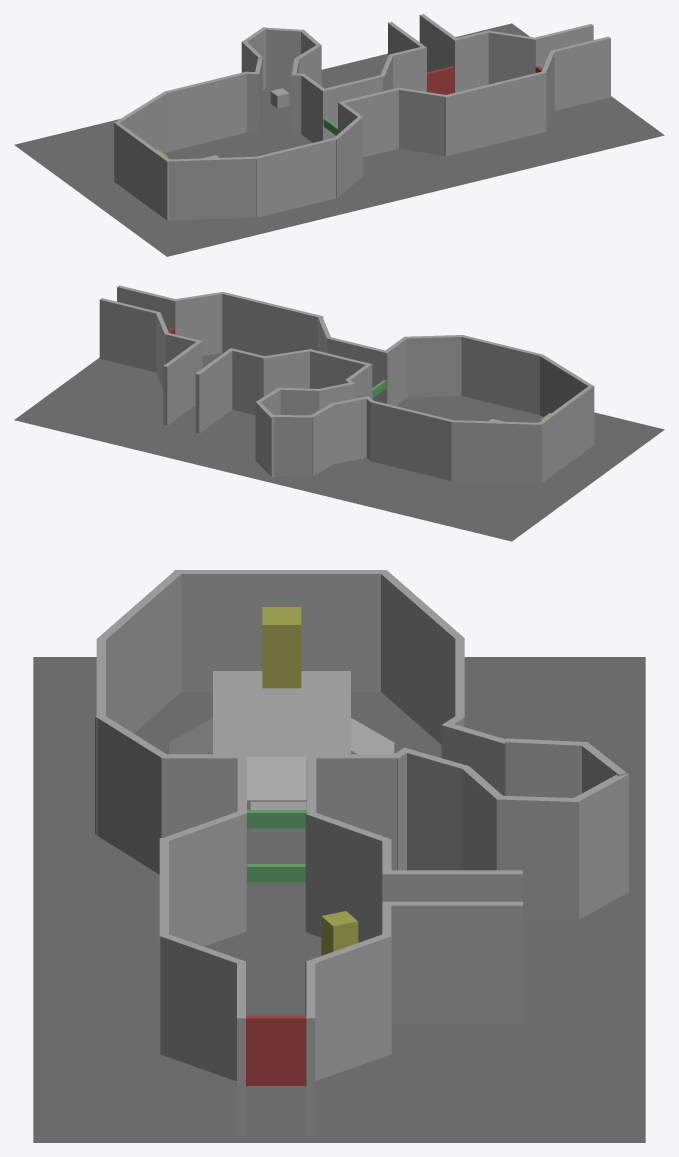
Rendered from BASE_BLOCKOUT.fbx.
3 views of the same model, one above another, from view 1: azimuth 30°, elevation 25°; view 2: azimuth 150°, elevation 25°; view 3: azimuth 270°, elevation 25° (orthographic). The views are drawn at different scales.
Visible parts, largest first — view 1: Floor, Wall_Upgrade_Room3, Wall_Teleport_Room2, Wall_Teleport_Room3, Wall_Teleport_Room7, Wall_Hallway_3_2, Wall_Teleport_Room1, Wall_Upgrade_Room2, Wall_Hallway_1_2, Wall_Upgrade_Room6, Wall_Upgrade_Room7, Wall_Mother4 (+16 smaller); view 2: Floor, Wall_Teleport_Room6, Wall_Teleport_Room7, Wall_Teleport_Room3, Wall_Upgrade_Room3, Wall_Hallway_3_1, Wall_Teleport_Room1, Wall_Teleport_Room4, Wall_Mother3, Wall_Upgrade_Room4, Wall_Hallway_4_2, Wall_Hallway_4_1 (+16 smaller); view 3: Floor, Wall_Teleport_Room1, Wall_Hallway_4_1, Platform, Wall_Upgrade_Room6, Wall_Upgrade_Room4, Wall_Upgrade_Room2, Wall_Teleport_Room6, Wall_Teleport_Room2, Wall_Mother5, Wall_Teleport_Room4, Wall_Upgrade_Room1 (+22 smaller).
Part boxes in pixels (left/top/right/bottom): Floor: left=14, top=23, right=664, bottom=256; Wall_Upgrade_Room3: left=443, top=71, right=546, bottom=156; Wall_Teleport_Room2: left=169, top=156, right=256, bottom=220; Wall_Teleport_Room3: left=256, top=137, right=337, bottom=217; Wall_Teleport_Room7: left=165, top=71, right=247, bottom=151; Wall_Hallway_3_2: left=550, top=36, right=610, bottom=110; Wall_Teleport_Room1: left=114, top=122, right=170, bottom=220; Wall_Upgrade_Room2: left=398, top=87, right=447, bottom=155; Wall_Hallway_1_2: left=340, top=88, right=399, bottom=157; Wall_Upgrade_Room6: left=487, top=30, right=536, bottom=84; Wall_Upgrade_Room7: left=452, top=30, right=489, bottom=92; Wall_Mother4: left=265, top=27, right=302, bottom=89; Floor: left=14, top=353, right=664, bottom=541; Wall_Teleport_Room6: left=451, top=420, right=541, bottom=483; Wall_Teleport_Room7: left=370, top=400, right=453, bottom=480; Wall_Teleport_Room3: left=460, top=335, right=542, bottom=414; Wall_Upgrade_Room3: left=221, top=292, right=323, bottom=356; Wall_Hallway_3_1: left=99, top=298, right=158, bottom=372; Wall_Teleport_Room1: left=538, top=385, right=594, bottom=483; Wall_Teleport_Room4: left=405, top=335, right=461, bottom=397; Wall_Mother3: left=272, top=415, right=313, bottom=476; Wall_Upgrade_Room4: left=174, top=292, right=223, bottom=355; Wall_Hallway_4_2: left=195, top=349, right=232, bottom=433; Wall_Hallway_4_1: left=163, top=341, right=200, bottom=425; Floor: left=33, top=657, right=645, bottom=1142; Wall_Teleport_Room1: left=174, top=570, right=384, bottom=691; Wall_Hallway_4_1: left=388, top=901, right=522, bottom=1023; Platform: left=213, top=671, right=350, bottom=756; Wall_Upgrade_Room6: left=305, top=933, right=391, bottom=1080; Wall_Upgrade_Room4: left=160, top=933, right=244, bottom=1081; Wall_Upgrade_Room2: left=164, top=810, right=246, bottom=946; Wall_Teleport_Room6: left=380, top=570, right=464, bottom=744; Wall_Teleport_Room2: left=97, top=571, right=181, bottom=733; Wall_Mother5: left=496, top=795, right=579, bottom=919; Wall_Teleport_Room4: left=95, top=715, right=166, bottom=874; Wall_Upgrade_Room1: left=305, top=811, right=391, bottom=942.
Size of the model in its own units: 4171 by 503 by 2221.
